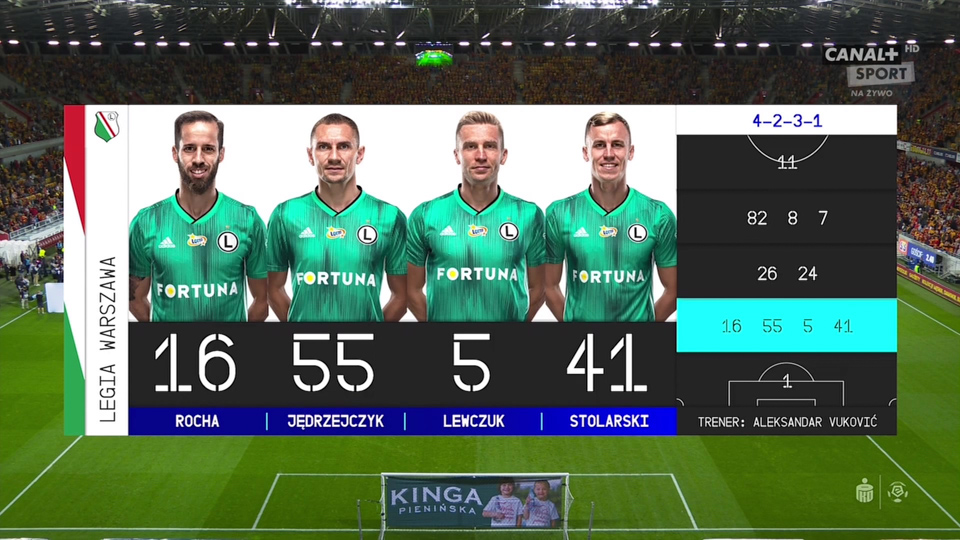Adidas: (573, 227, 591, 239), (440, 225, 457, 237), (158, 237, 175, 248), (299, 227, 315, 238)
